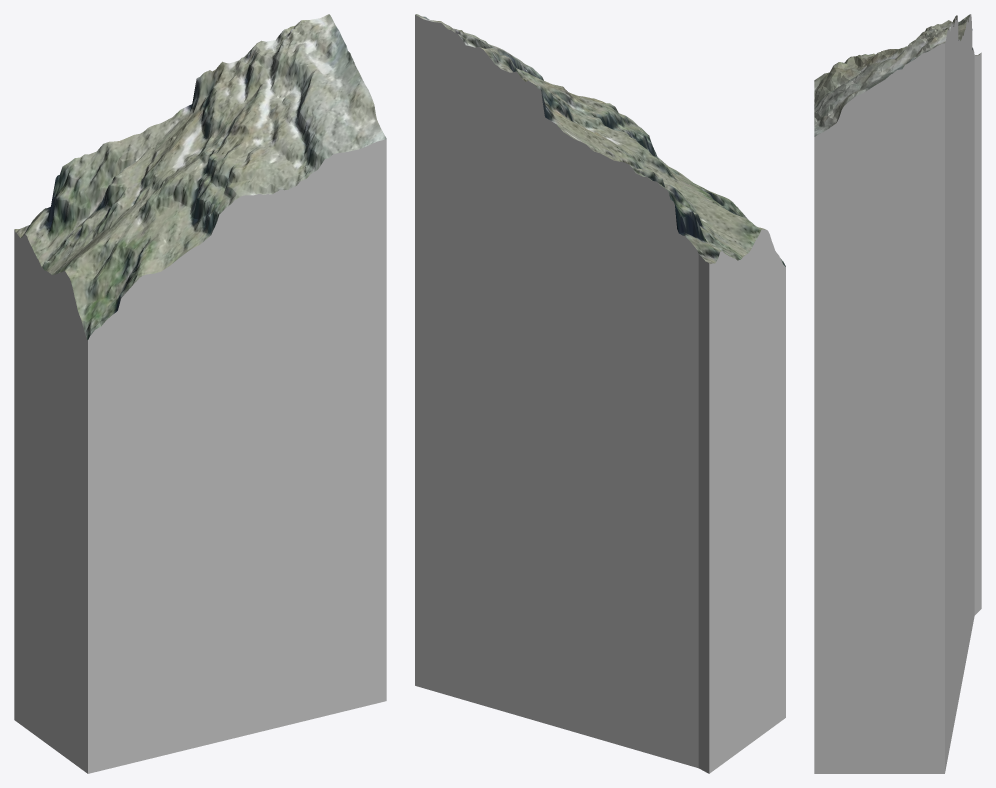
The model's file is GrindScene17.gltf.
3 renders of one model, left to right at view 1: azimuth 30°, elevation 25°; view 2: azimuth 150°, elevation 25°; view 3: azimuth 270°, elevation 25°, orthographic. The views are drawn at different scales.
Parts seen in each view (by area): view 1: Plane; view 2: Plane; view 3: Plane.
Boxes of the visible parts, x1,y1,x2,y2 form: Plane: [14, 14, 386, 773]; Plane: [415, 14, 785, 773]; Plane: [814, 14, 981, 773].
Size of the model in its own units: 0.6 by 1.24 by 0.2565.
2 materials, 1 textured.
